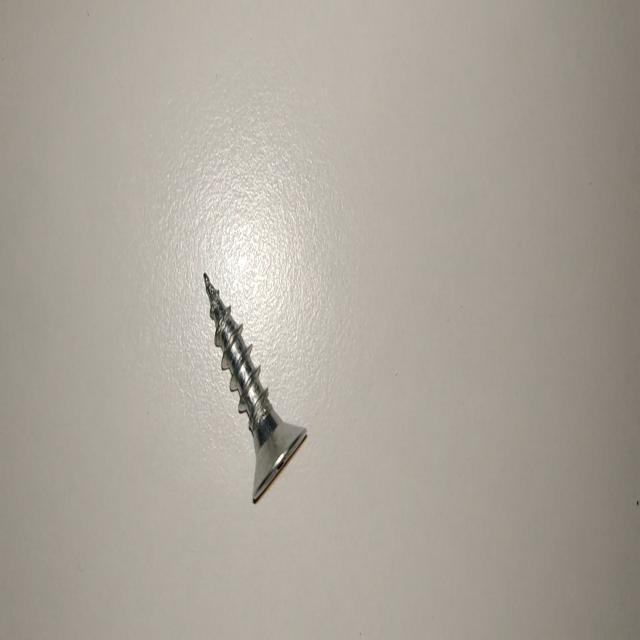Screw: (204, 273, 307, 503)
